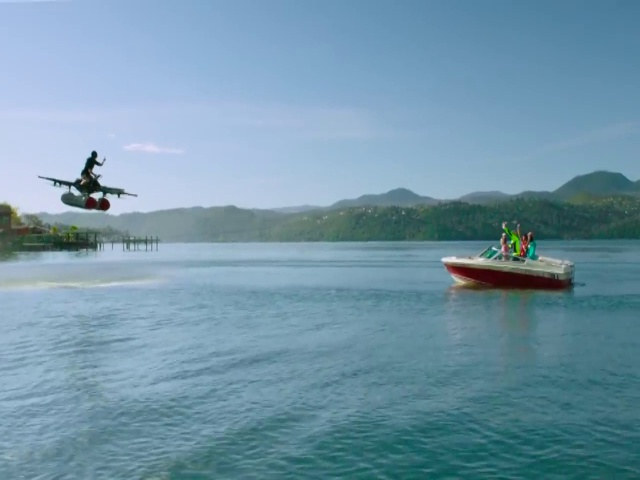drone: (34, 172, 139, 210)
